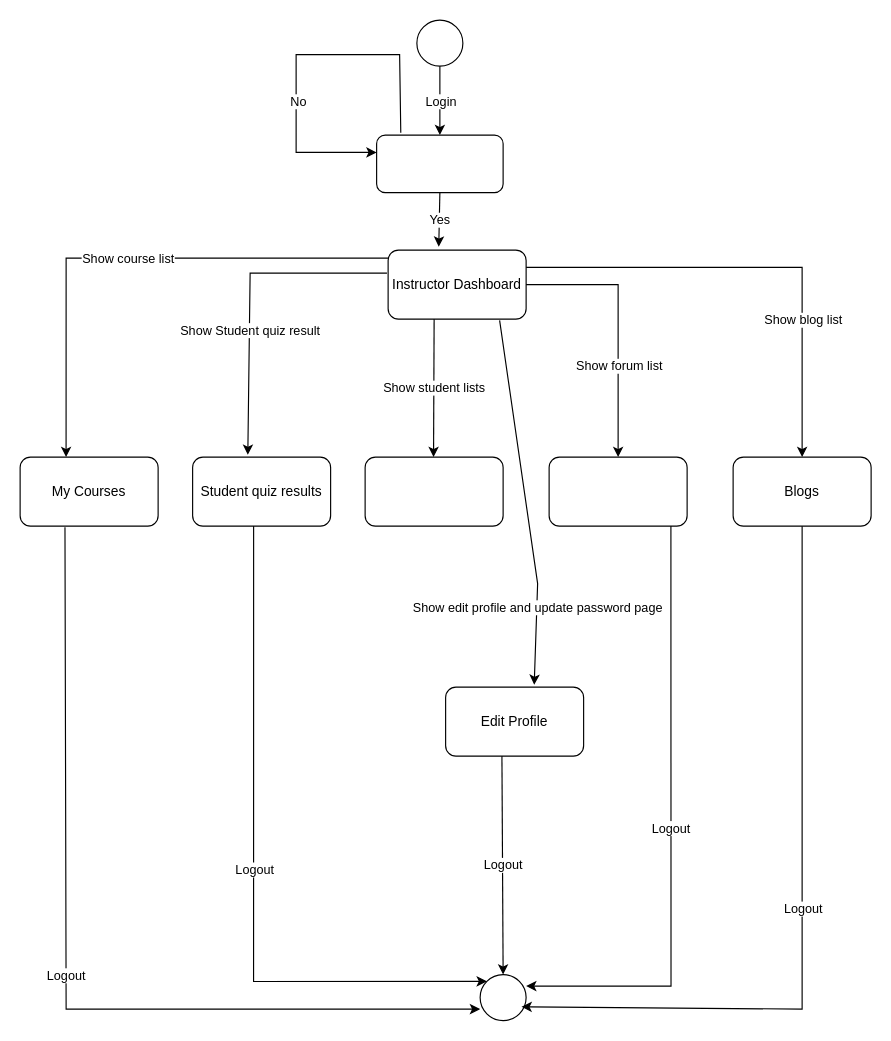
The diagram is 891 pixels wide and 1041 high, and some of its shapes have lost their labels. The shapes that lost their labels are listed below. From the top down, each one's box as (x1, y1, x2, y2) in pixels, then its label:
(375, 134, 503, 193): Login page
(364, 456, 503, 526): Students
(548, 456, 687, 526): Forum
